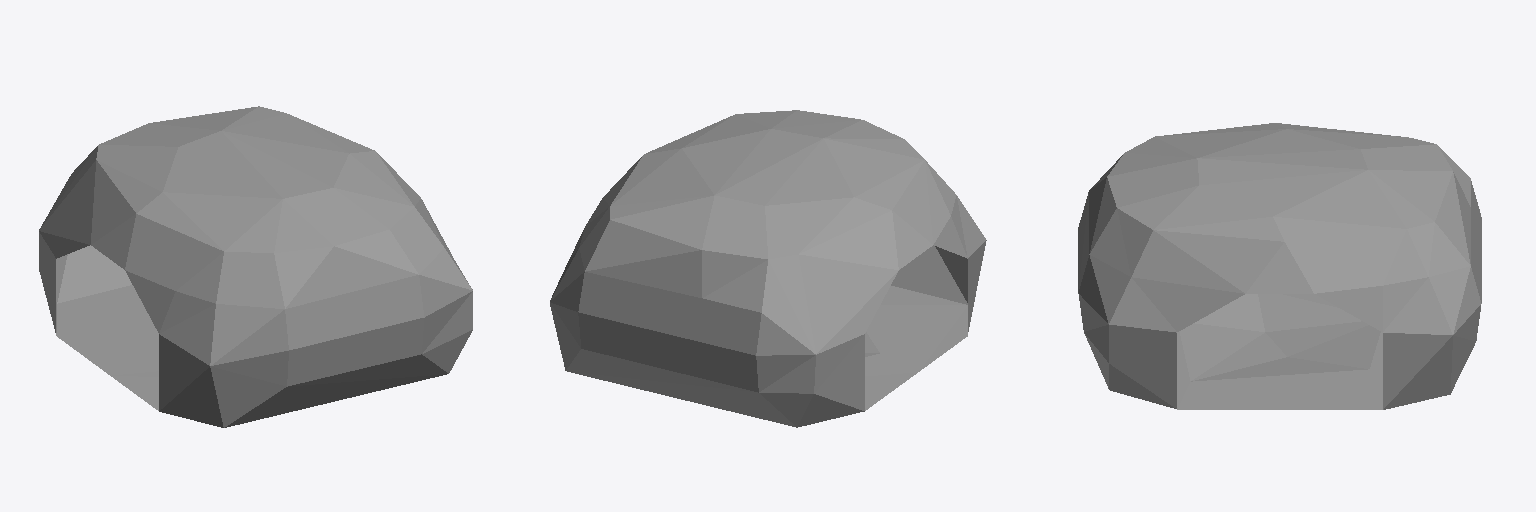
Rendered from Mesh_CavePack_Small_RoomSquare_lod1.obj.
3 renders of one model, left to right at view 1: azimuth 30°, elevation 25°; view 2: azimuth 150°, elevation 25°; view 3: azimuth 270°, elevation 25°, orthographic.
Visible parts, largest first — view 1: Plane.002; view 2: Plane.002; view 3: Plane.002.
Boxes of the visible parts, <box> form: Plane.002: <box>39,106,472,427</box>; Plane.002: <box>550,110,986,427</box>; Plane.002: <box>1078,123,1481,409</box>.
Bounding box in the file's own units: 16.02 × 9.37 × 18.84.